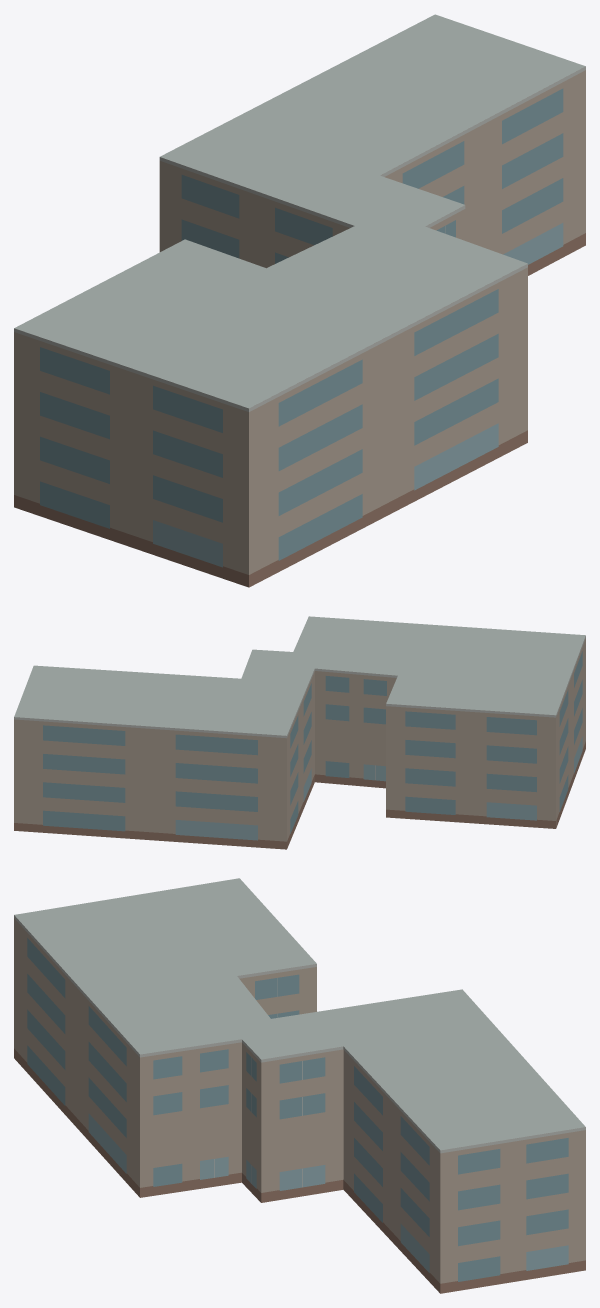
The model's file is survey-upis-32863996.glb.
3 renders of one model, top to bottom at view 1: azimuth 30°, elevation 25°; view 2: azimuth 150°, elevation 25°; view 3: azimuth 270°, elevation 25°, orthographic. The views are drawn at different scales.
Visible parts, largest first — view 1: survey-upis-32863996.tmp; view 2: survey-upis-32863996.tmp; view 3: survey-upis-32863996.tmp.
Boxes of the visible parts, x1,y1,x2,y2 form: survey-upis-32863996.tmp: (14, 14, 585, 587); survey-upis-32863996.tmp: (14, 616, 585, 849); survey-upis-32863996.tmp: (14, 878, 585, 1293).
Size of the model in its own units: 47.68 by 11.7 by 42.32.
